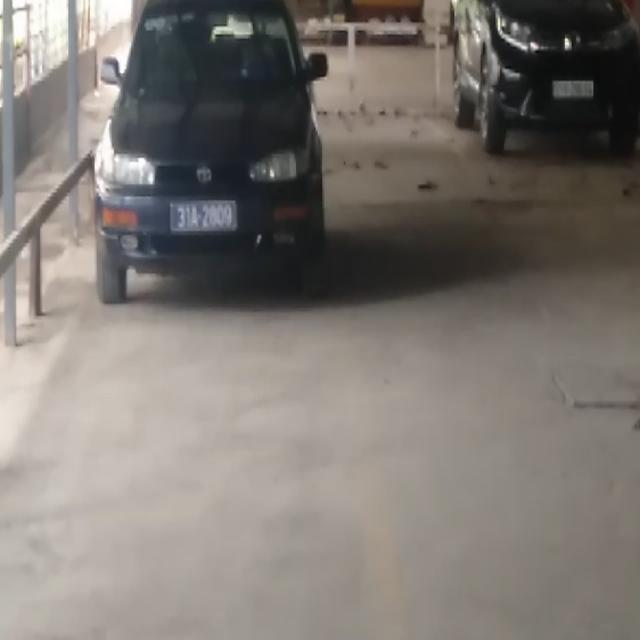bien_xanh: (174, 201, 238, 232)
